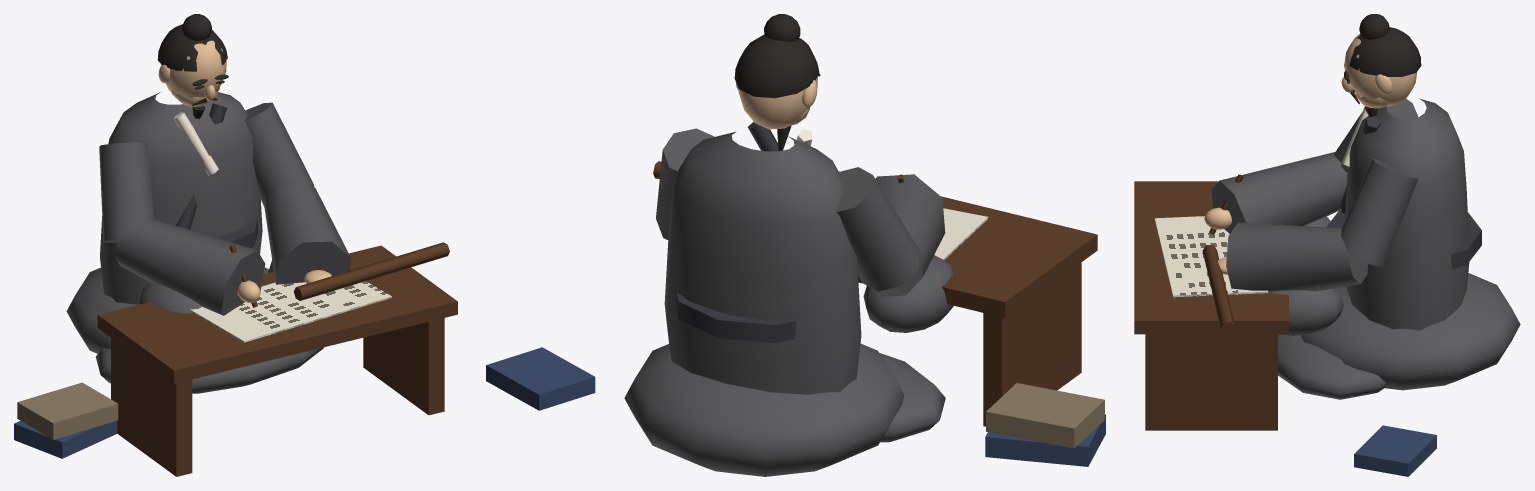
The model's file is zengzi.glb.
3 views of the same model, side by side, from view 1: azimuth 30°, elevation 25°; view 2: azimuth 150°, elevation 25°; view 3: azimuth 270°, elevation 25° (orthographic). The views are drawn at different scales.
Parts seen in each view (by area): view 1: Zengzi; view 2: Zengzi; view 3: Zengzi.
Part boxes in pixels (left/top/right/bottom): Zengzi: left=14, top=14, right=457, bottom=476; Zengzi: left=486, top=14, right=1105, bottom=476; Zengzi: left=1134, top=14, right=1520, bottom=476.
Size of the model in its own units: 1.41 by 1.06 by 1.05.
9 materials, 1 textured.
